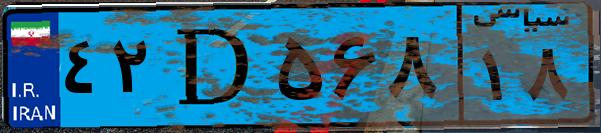1: (475, 38, 525, 113)
2: (110, 28, 158, 98)
4: (57, 26, 110, 100)
5: (270, 28, 330, 110)
6: (330, 28, 385, 110)
8: (385, 28, 445, 110), (525, 38, 570, 115)
D: (158, 12, 270, 120)
